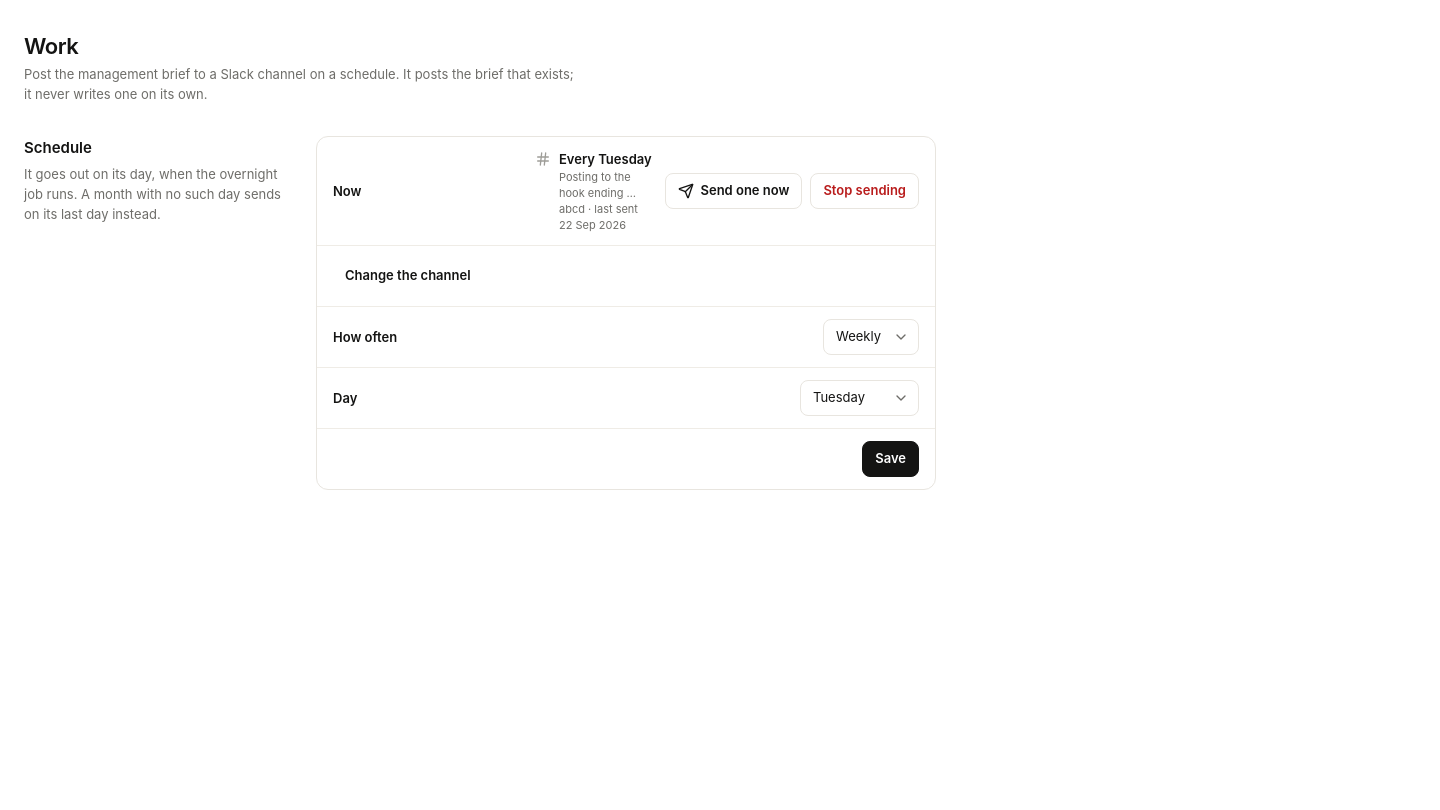
Test: BriefDeliveryPage › stops the delivery
expect the text "Every Tuesday" is shown: met, box [559,149,654,169]
Click the button "Stop sending".
click(865, 191)  # box [810,173,919,209]
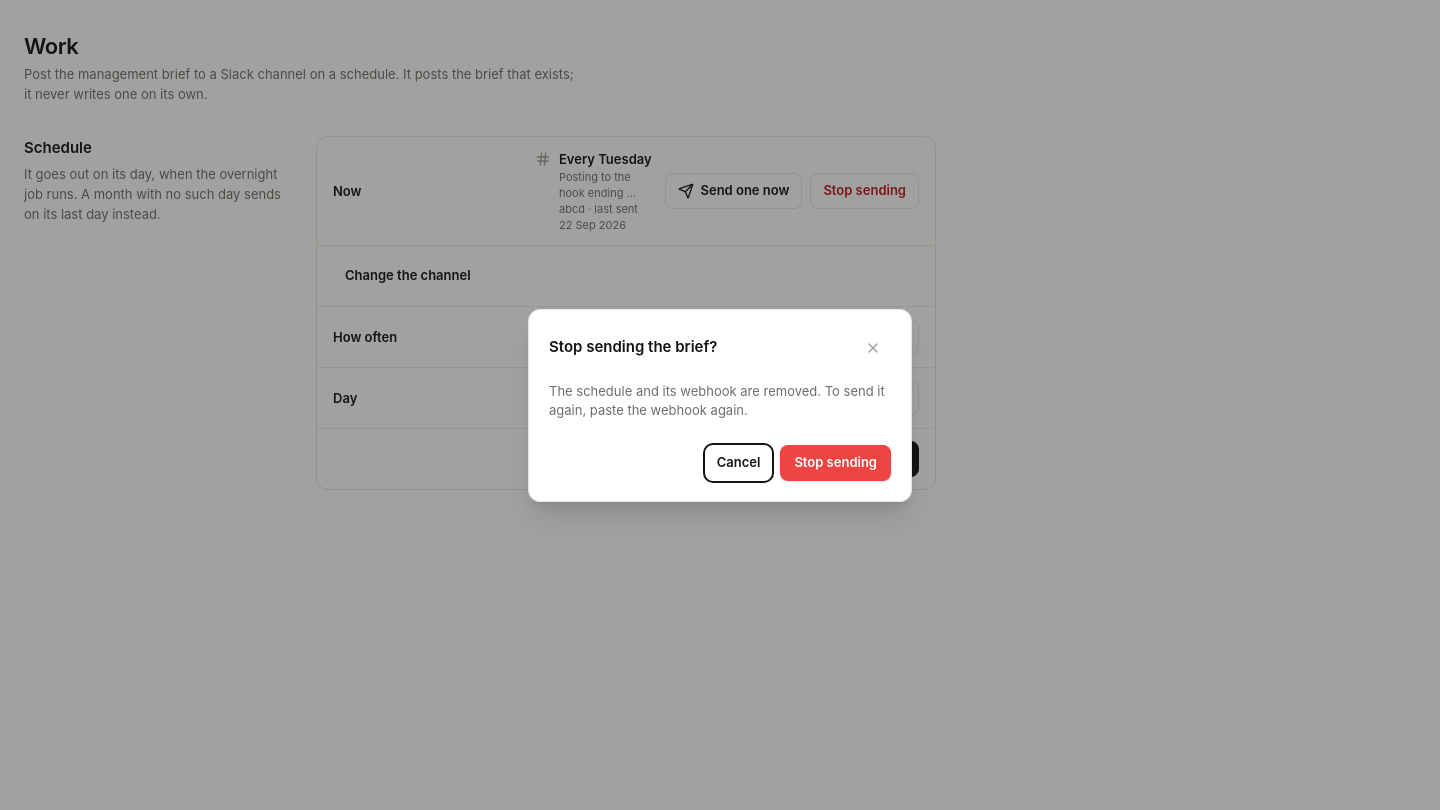
Click the button "Stop sending".
click(836, 462)  # box [780,444,891,480]
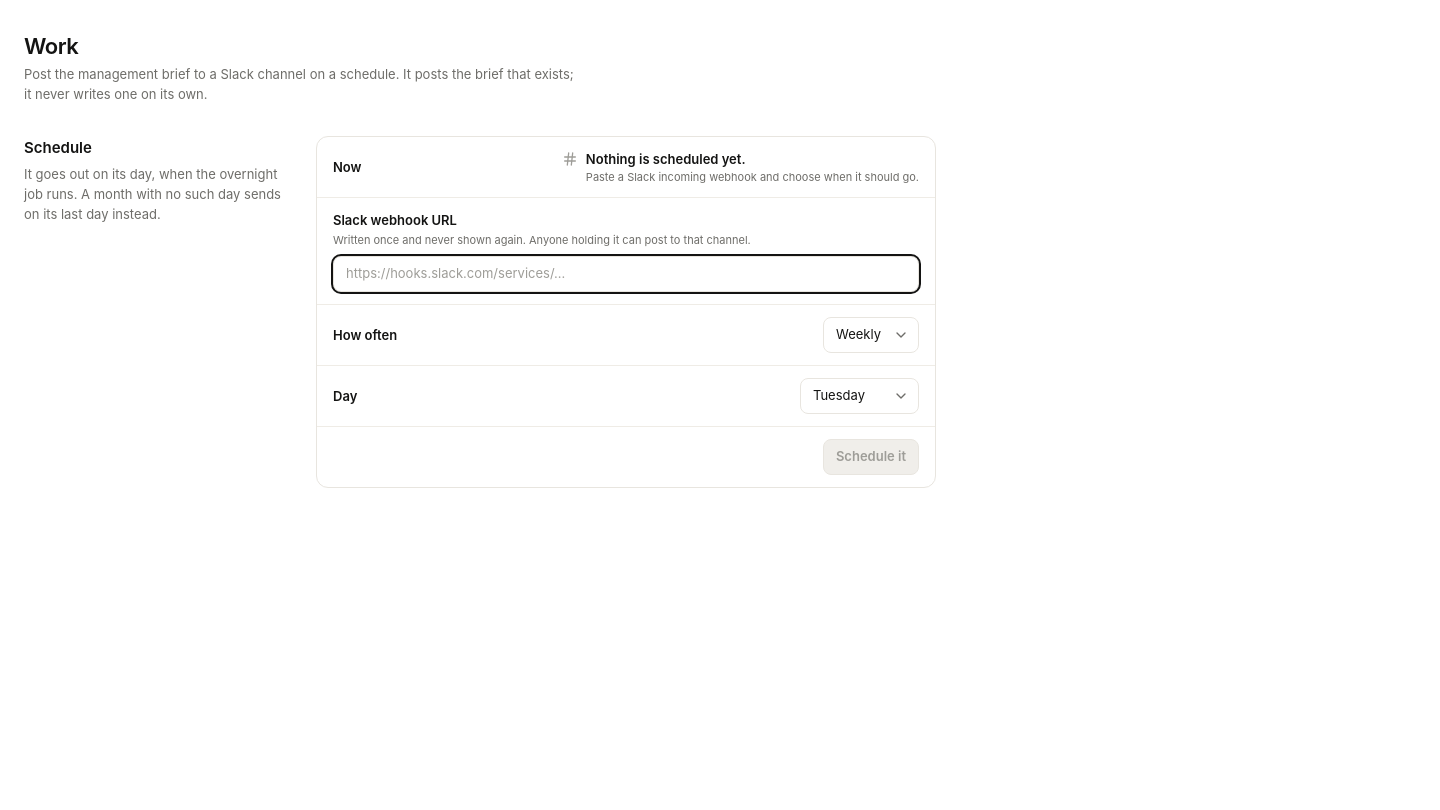
expect the text "Nothing is scheduled yet." is shown: met, box [586,151,746,167]
